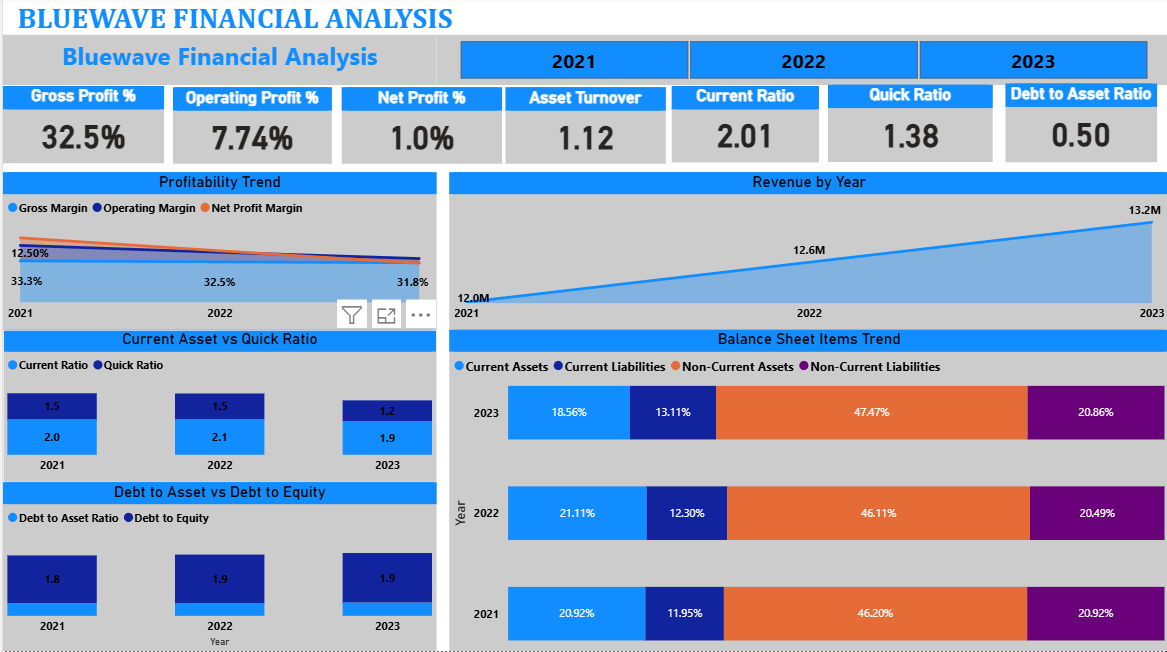

The page's visual inventory and layout, read from the dashboard file:
{"tool":"powerbi","page":{"name":"Overview","canvas":[1280,720],"ordinal":0},"visuals":[{"type":"textbox","box":[11,0,680.6,53.5],"z":0},{"type":"card","title":"Gross Profit %","fields":{"Values":["Ratios.Gross Margin"]},"box":[0,98.8,177,85.1],"z":1000},{"type":"card","title":"Operating Profit %","fields":{"Values":["Ratios.Operating Margin"]},"box":[186.6,100.2,174.3,83.7],"z":2000},{"type":"card","title":"Net Profit %","fields":{"Values":["Ratios.Net Profit Margin"]},"box":[371.9,100.2,175.6,83.7],"z":3000},{"type":"textbox","box":[0,42.5,476.2,54.9],"z":4000},{"type":"slicer","fields":{"Values":["Date Table.Year"]},"box":[476.2,42.5,804.1,54.9],"z":5000},{"type":"card","title":"Asset Turnover","fields":{"Values":["Ratios.Asset Turnover"]},"box":[551.6,100.2,175.6,83.7],"z":6000},{"type":"card","title":"Current Ratio","fields":{"Values":["Ratios.Current Ratio"]},"box":[734.1,98.8,161.9,83.7],"z":7000},{"type":"card","title":"Quick Ratio","fields":{"Values":["Ratios.Quick Ratio"]},"box":[905.7,97.4,181.1,85.1],"z":8000},{"type":"card","title":"Debt to Asset Ratio","fields":{"Values":["Ratios.Debt to Asset Ratio"]},"box":[1100.5,96.1,166,86.4],"z":9000},{"type":"stackedAreaChart","title":"Profitability Trend","fields":{"Y":["Ratios.Gross Margin","Ratios.Operating Margin","Ratios.Net Profit Margin"],"Category":["Date Table.Year"]},"box":[0,193.5,476.2,172.9],"z":10000},{"type":"columnChart","title":"Current Asset vs Quick Ratio","fields":{"Y":["Ratios.Current Ratio","Ratios.Quick Ratio"],"Category":["Date Table.Year"]},"box":[0,366.4,476.2,167.4],"z":11000},{"type":"columnChart","title":"Debt to Asset vs Debt to Equity","fields":{"Category":["Date Table.Year"],"Y":["Ratios.Debt to Asset Ratio","Ratios.Debt to Equity"]},"box":[0,533.8,476.2,186.6],"z":12000},{"type":"lineChart","fields":{"Y":["IS Calculated Measures.Revenue"],"Category":["Date Table.Year"]},"box":[489.9,193.5,790.4,172.9],"z":13000},{"type":"hundredPercentStackedBarChart","title":"Balance Sheet Items Trend","fields":{"Y":["BS Calculated Measures.Current Assets","BS Calculated Measures.Current Liabilities","BS Calculated Measures.Non-Current Assets","BS Calculated Measures.Non-Current Liabilities"],"Category":["Date Table.Year"]},"box":[489.9,366.4,790.4,354],"z":14000}]}

Visuals, with their boxes in screenshot pixels (x1, y1, x2, y2), scaled from the page's 1280x720 canvas onto the 1167x652 screenshot:
textbox: <box>10,0,631,48</box>
"Gross Profit %" card: <box>0,89,161,167</box>
"Operating Profit %" card: <box>170,91,329,167</box>
"Net Profit %" card: <box>339,91,499,167</box>
textbox: <box>0,38,434,88</box>
slicer - Date Table.Year: <box>434,38,1166,88</box>
"Asset Turnover" card: <box>503,91,663,167</box>
"Current Ratio" card: <box>669,89,817,165</box>
"Quick Ratio" card: <box>826,88,991,165</box>
"Debt to Asset Ratio" card: <box>1003,87,1155,165</box>
"Profitability Trend" stackedAreaChart: <box>0,175,434,332</box>
"Current Asset vs Quick Ratio" columnChart: <box>0,332,434,483</box>
"Debt to Asset vs Debt to Equity" columnChart: <box>0,483,434,651</box>
lineChart - IS Calculated Measures.Revenue x Date Table.Year: <box>447,175,1166,332</box>
"Balance Sheet Items Trend" hundredPercentStackedBarChart: <box>447,332,1166,651</box>
